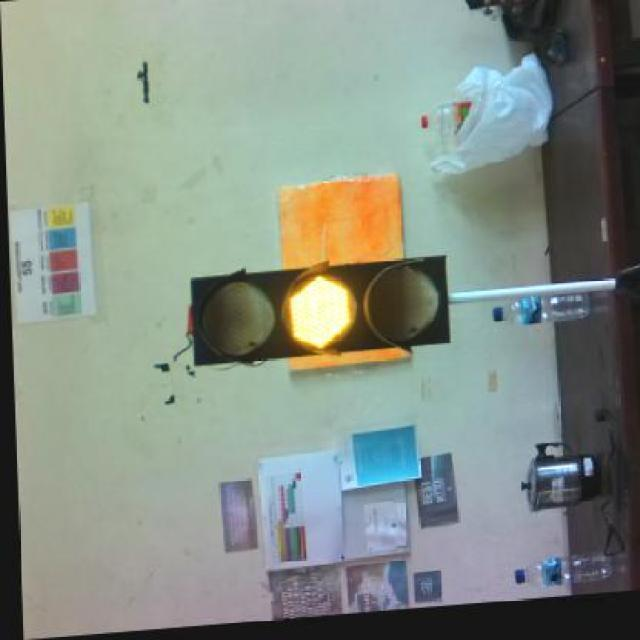yellow_light: (190, 256, 449, 365)
